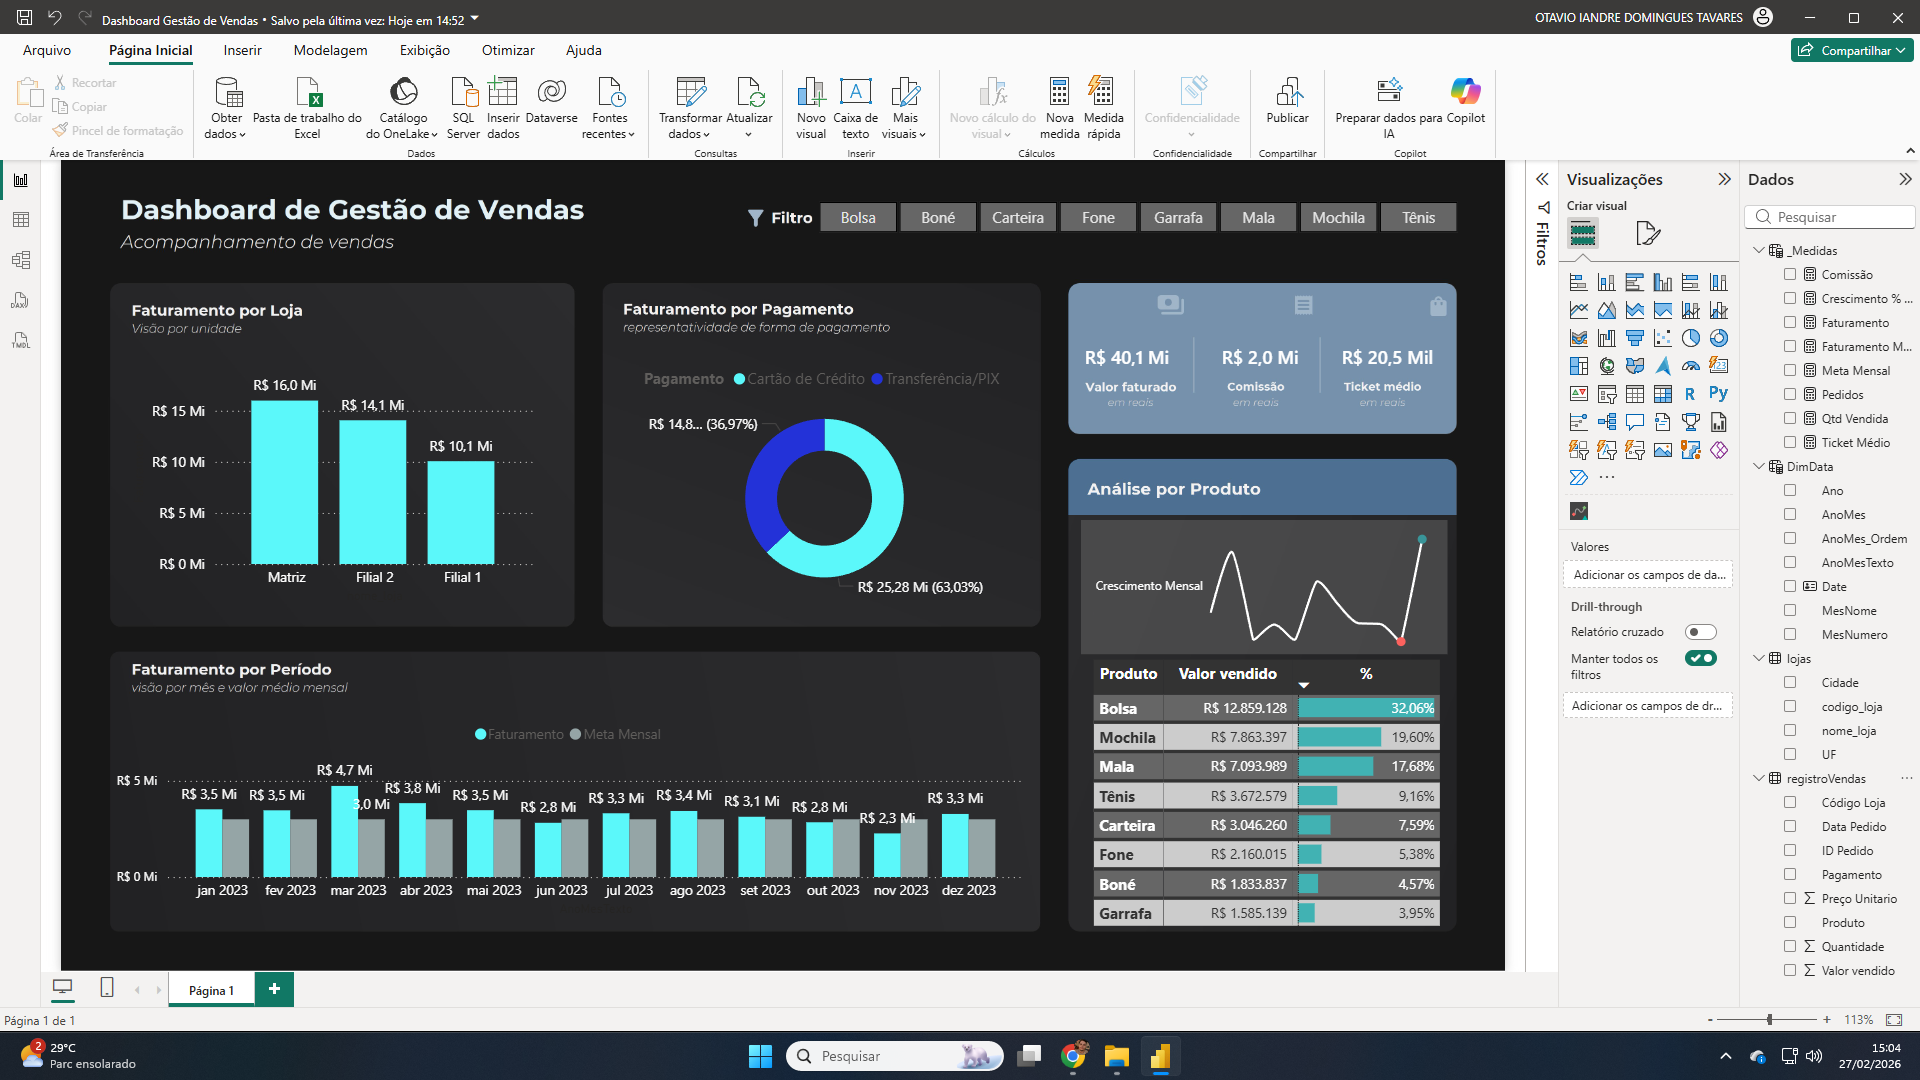

The dashboard page shown, as its layout file describes it:
{"tool":"powerbi","page":{"name":"Página 1","canvas":[1280,720],"ordinal":0},"visuals":[{"type":"cardVisual","fields":{"Data":["_Medidas.Faturamento"]},"box":[870.7,147.2,149.9,52.3],"z":0},{"type":"cardVisual","fields":{"Data":["_Medidas.Ticket Médio"]},"box":[1113.7,147.2,125.9,52.3],"z":1000},{"type":"clusteredColumnChart","fields":{"Category":["DimData.AnoMesTexto"],"Y":["_Medidas.Faturamento","_Medidas.Meta Mensal"]},"box":[44.3,489.5,814,185.3],"z":2000},{"type":"donutChart","fields":{"Category":["registroVendas.Pagamento"],"Y":["_Medidas.Faturamento"]},"box":[504.5,173.8,344.9,223.4],"z":3000},{"type":"clusteredColumnChart","fields":{"Category":["lojas.nome_loja"],"Y":["_Medidas.Faturamento"]},"box":[58.5,173.8,365.3,223.4],"z":4000},{"type":"pivotTable","fields":{"Rows":["registroVendas.Produto"],"Values":["Sum(registroVendas.Valor vendido)","Divide(Sum(registroVendas.Valor vendido), ScopedEval(Sum(registroVendas.Valor vendido), []))"]},"box":[910.6,438,318.3,250],"z":5000},{"type":"slicer","fields":{"Values":["registroVendas.Produto"]},"box":[646.4,30.1,616.3,36.4],"z":6000},{"type":"cardVisual","fields":{"Data":["_Medidas.Comissão"]},"box":[998.4,148.1,130.3,51.4],"z":7000},{"type":"PBI_CV_25997FEB_F466_44FA_B562_AC4063283C4C","fields":{"axis":["DimData.AnoMes"],"measure":["_Medidas.Crescimento % (M/M)"]},"box":[904.4,319.2,324.5,118.8],"z":8000}]}

Visuals, with their boxes on the page's 1280x720 design canvas (x1, y1, x2, y2). These are canvas units, not pixel positions in the 1920x1080 screenshot, which may show the page scaled, cropped or inside an application window:
cardVisual - _Medidas.Faturamento: rect(871, 147, 1021, 200)
cardVisual - _Medidas.Ticket Médio: rect(1114, 147, 1240, 200)
clusteredColumnChart - DimData.AnoMesTexto x _Medidas.Faturamento: rect(44, 490, 858, 675)
donutChart - registroVendas.Pagamento x _Medidas.Faturamento: rect(504, 174, 849, 397)
clusteredColumnChart - lojas.nome_loja x _Medidas.Faturamento: rect(58, 174, 424, 397)
pivotTable - registroVendas.Produto x Sum(registroVendas.Valor vendido): rect(911, 438, 1229, 688)
slicer - registroVendas.Produto: rect(646, 30, 1263, 66)
cardVisual - _Medidas.Comissão: rect(998, 148, 1129, 200)
PBI_CV_25997FEB_F466_44FA_B562_AC4063283C4C - DimData.AnoMes x _Medidas.Crescimento % (M/M): rect(904, 319, 1229, 438)
